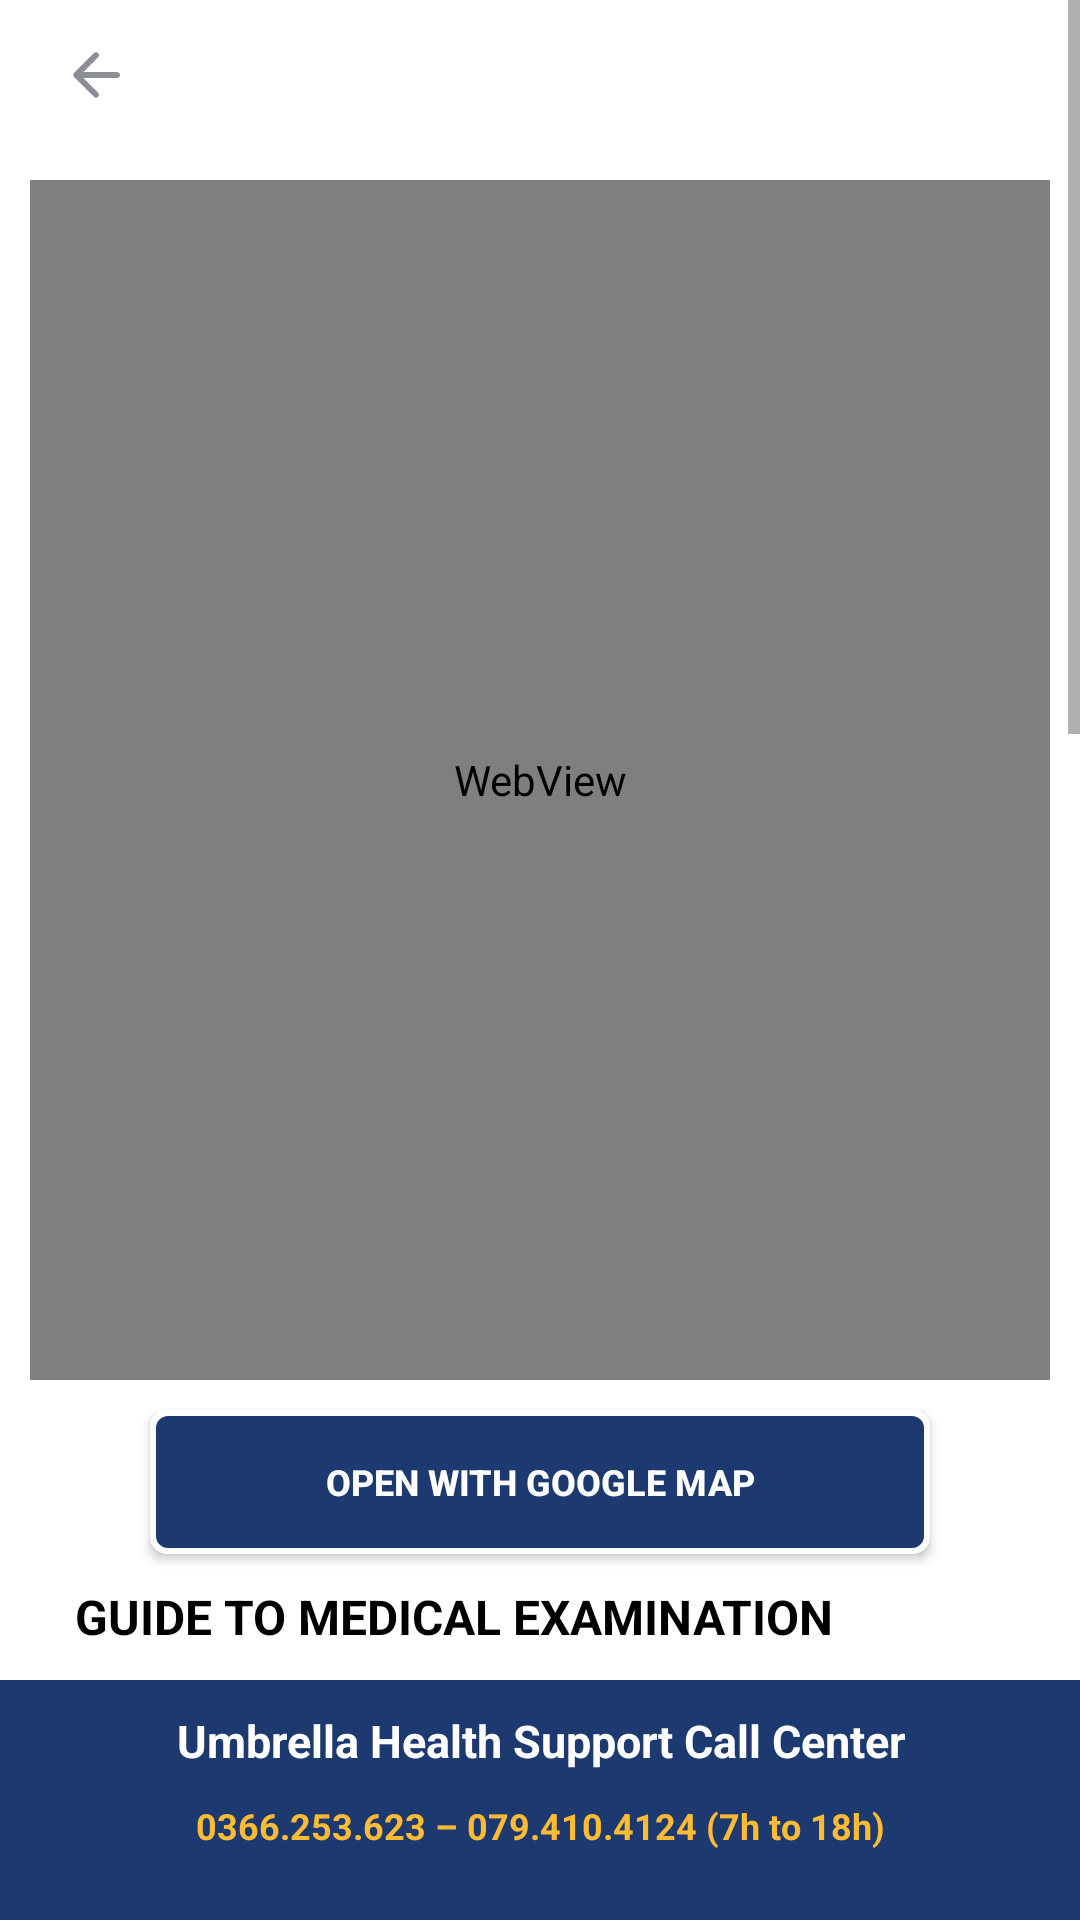

Icon bounding boxes for this 1080 x 1920 phone screenshot, format BBox(x1, y1, x2, y2):
arrow back: BBox(73, 52, 120, 98)
